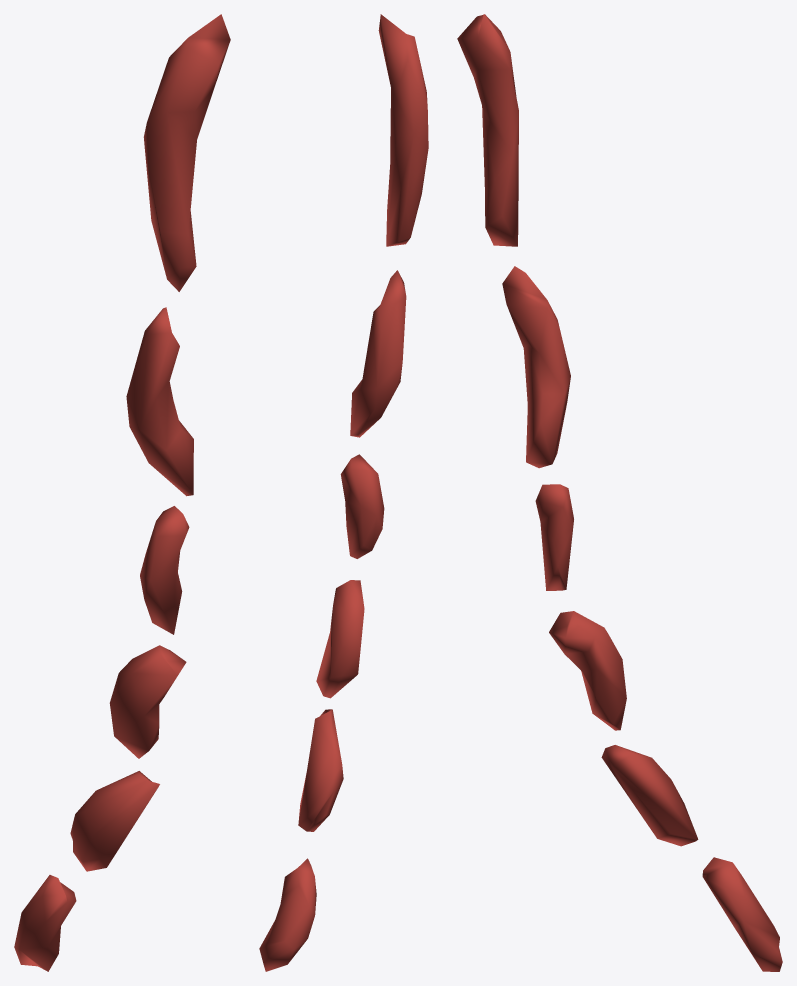
The model's file is musculos-interspinales-colli-muscles-r.glb.
3 views of the same model, side by side, from view 1: azimuth 30°, elevation 25°; view 2: azimuth 150°, elevation 25°; view 3: azimuth 270°, elevation 25° (orthographic). The views are drawn at different scales.
Visible parts, largest first — view 1: Interspinales colli muscles.r; view 2: Interspinales colli muscles.r; view 3: Interspinales colli muscles.r.
Part boxes in pixels (left/top/right/bottom): Interspinales colli muscles.r: left=14, top=14, right=230, bottom=971; Interspinales colli muscles.r: left=259, top=14, right=428, bottom=971; Interspinales colli muscles.r: left=457, top=14, right=782, bottom=971.
Size of the model in its own units: 0.00681 by 0.0902 by 0.0275.
